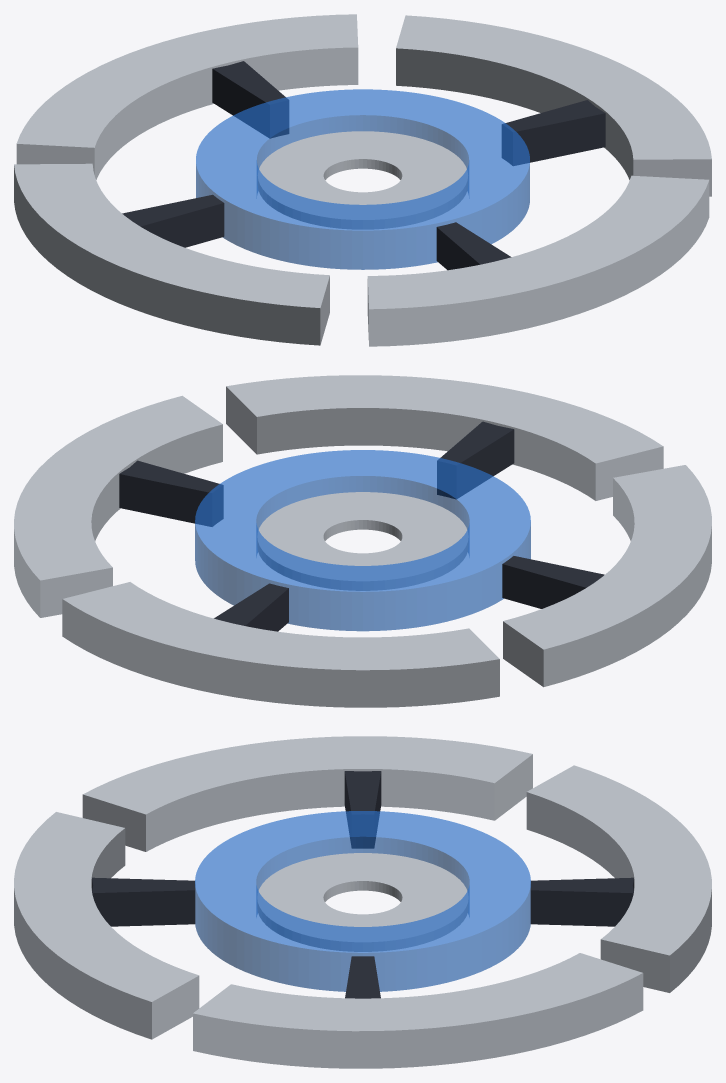
File: blade_orbit_halo.glb
3 renders of one model, top to bottom at view 1: azimuth 30°, elevation 25°; view 2: azimuth 150°, elevation 25°; view 3: azimuth 270°, elevation 25°, orthographic.
Parts seen in each view (by area): view 1: GEO_blade_orbit_halo_HUB, GEO_blade_orbit_halo_RING_4, GEO_blade_orbit_halo_RING_3, GEO_blade_orbit_halo_RING_2, GEO_blade_orbit_halo_RING_1, GEO_blade_orbit_halo_NSS_V1_COLLAR, GEO_blade_orbit_halo_SPOKE_1, GEO_blade_orbit_halo_SPOKE_2, GEO_blade_orbit_halo_SPOKE_3, GEO_blade_orbit_halo_SPOKE_4; view 2: GEO_blade_orbit_halo_HUB, GEO_blade_orbit_halo_RING_2, GEO_blade_orbit_halo_RING_4, GEO_blade_orbit_halo_RING_3, GEO_blade_orbit_halo_RING_1, GEO_blade_orbit_halo_NSS_V1_COLLAR, GEO_blade_orbit_halo_SPOKE_1, GEO_blade_orbit_halo_SPOKE_4, GEO_blade_orbit_halo_SPOKE_3, GEO_blade_orbit_halo_SPOKE_2; view 3: GEO_blade_orbit_halo_HUB, GEO_blade_orbit_halo_RING_1, GEO_blade_orbit_halo_RING_3, GEO_blade_orbit_halo_RING_4, GEO_blade_orbit_halo_RING_2, GEO_blade_orbit_halo_NSS_V1_COLLAR, GEO_blade_orbit_halo_SPOKE_2, GEO_blade_orbit_halo_SPOKE_4, GEO_blade_orbit_halo_SPOKE_3, GEO_blade_orbit_halo_SPOKE_1.
Boxes of the visible parts, x1,y1,x2,y2 form: GEO_blade_orbit_halo_HUB: [196, 89, 529, 269]; GEO_blade_orbit_halo_RING_4: [367, 175, 709, 346]; GEO_blade_orbit_halo_RING_3: [14, 163, 329, 345]; GEO_blade_orbit_halo_RING_2: [16, 14, 358, 179]; GEO_blade_orbit_halo_RING_1: [396, 15, 711, 196]; GEO_blade_orbit_halo_NSS_V1_COLLAR: [258, 131, 467, 229]; GEO_blade_orbit_halo_SPOKE_1: [502, 100, 605, 165]; GEO_blade_orbit_halo_SPOKE_2: [212, 61, 288, 138]; GEO_blade_orbit_halo_SPOKE_3: [122, 194, 224, 247]; GEO_blade_orbit_halo_SPOKE_4: [436, 222, 511, 270]; GEO_blade_orbit_halo_HUB: [195, 450, 530, 631]; GEO_blade_orbit_halo_RING_2: [62, 582, 499, 707]; GEO_blade_orbit_halo_RING_4: [226, 375, 663, 500]; GEO_blade_orbit_halo_RING_3: [503, 465, 711, 687]; GEO_blade_orbit_halo_RING_1: [14, 395, 222, 617]; GEO_blade_orbit_halo_NSS_V1_COLLAR: [257, 492, 468, 590]; GEO_blade_orbit_halo_SPOKE_1: [119, 460, 223, 526]; GEO_blade_orbit_halo_SPOKE_4: [437, 421, 514, 498]; GEO_blade_orbit_halo_SPOKE_3: [502, 556, 604, 608]; GEO_blade_orbit_halo_SPOKE_2: [214, 583, 288, 631]; GEO_blade_orbit_halo_HUB: [195, 811, 530, 991]; GEO_blade_orbit_halo_RING_1: [193, 953, 643, 1068]; GEO_blade_orbit_halo_RING_3: [82, 736, 532, 851]; GEO_blade_orbit_halo_RING_4: [14, 812, 199, 1039]; GEO_blade_orbit_halo_RING_2: [526, 765, 711, 992]; GEO_blade_orbit_halo_NSS_V1_COLLAR: [257, 853, 468, 951]; GEO_blade_orbit_halo_SPOKE_2: [530, 877, 633, 926]; GEO_blade_orbit_halo_SPOKE_4: [92, 877, 195, 926]; GEO_blade_orbit_halo_SPOKE_3: [344, 771, 381, 848]; GEO_blade_orbit_halo_SPOKE_1: [345, 956, 380, 998].
Size of the model in its own units: 0.0706 by 0.0044 by 0.0706.
